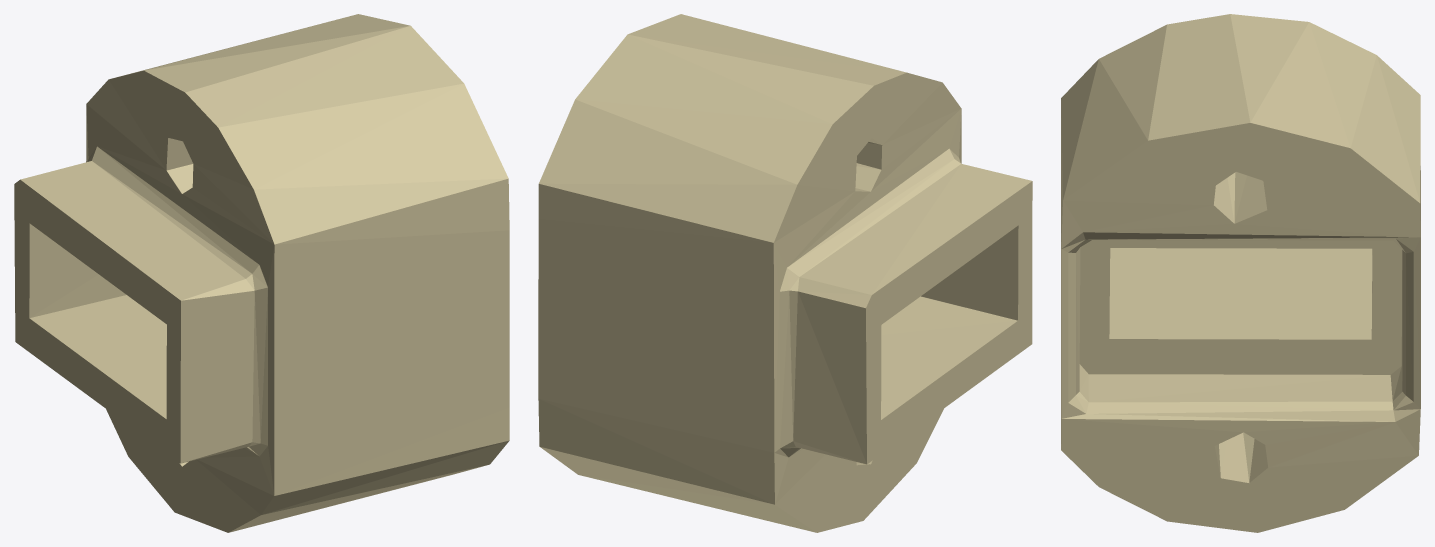
File: HipAdapterC.dae
3 renders of one model, left to right at view 1: azimuth 30°, elevation 25°; view 2: azimuth 150°, elevation 25°; view 3: azimuth 270°, elevation 25°, orthographic. The views are drawn at different scales.
Visible parts, largest first — view 1: visual_Hip_Adapter_C; view 2: visual_Hip_Adapter_C; view 3: visual_Hip_Adapter_C.
Boxes of the visible parts, x1,y1,x2,y2 form: visual_Hip_Adapter_C: (14,14,509,532); visual_Hip_Adapter_C: (538,14,1032,532); visual_Hip_Adapter_C: (1061,14,1420,532).
Size of the model in its own units: 0.0195 by 0.02 by 0.0252.
